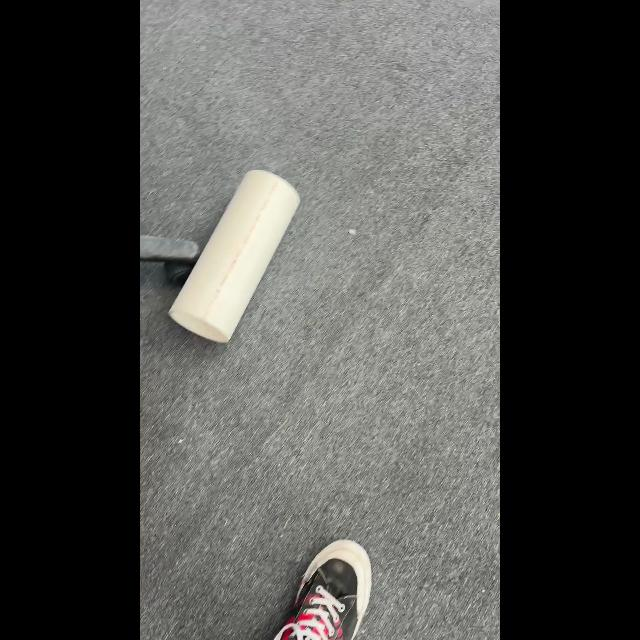CORAL: (168, 168, 300, 344)
